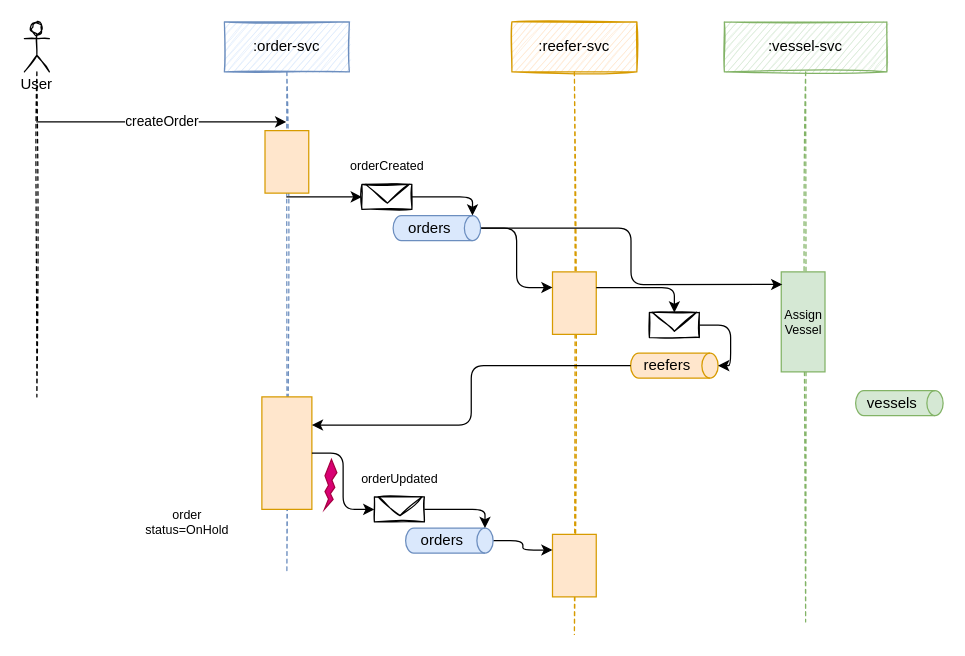
Some shapes in this 965 by 656 pixel diagram are drawn without their labels. The centre of each missing label's shape, as x and y in pixels:
Assign Reefer: point (573, 302)
Compensate Reefer: point (573, 565)
Create Order: point (286, 161)
Update Order: point (286, 452)
